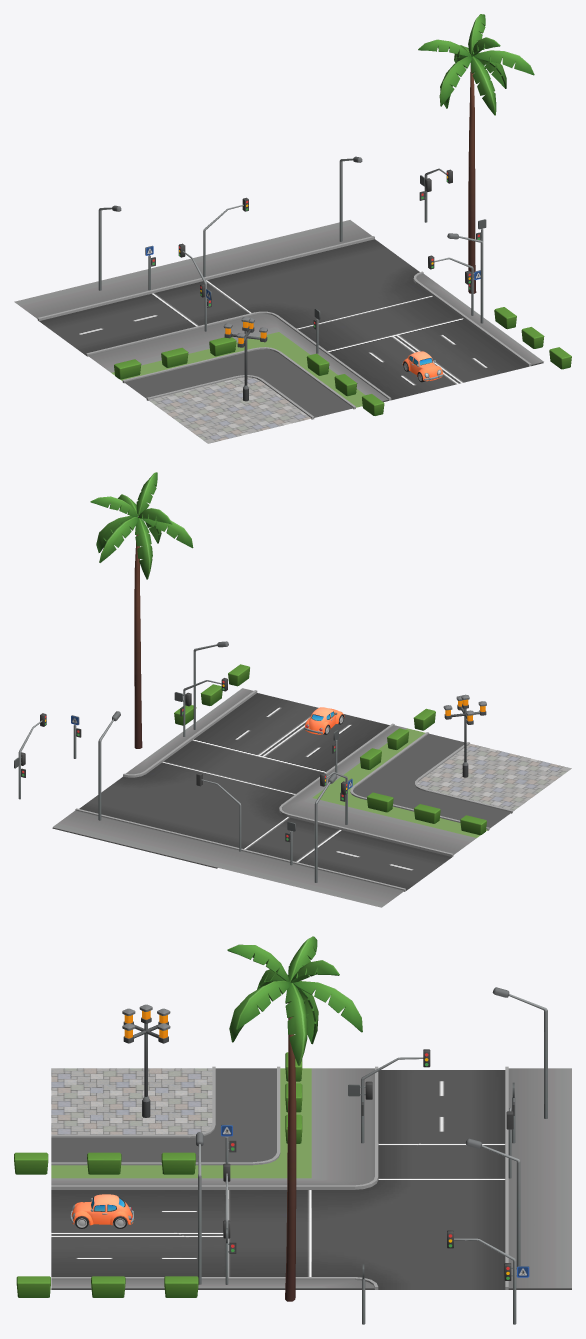
The model's file is south-center.gltf.
The picture shows the model from 3 angles, top to bottom: view 1: azimuth 30°, elevation 25°; view 2: azimuth 150°, elevation 25°; view 3: azimuth 270°, elevation 25°; orthographic projection. The views are drawn at different scales.
Visible parts, largest first — view 1: road_019.012, road_020.003, road_022.106, Set_B_Tiles_01.021, Palm_03.066, Spotlight_02.112, Car_19.003; view 2: road_019.012, road_022.106, road_020.003, Set_B_Tiles_01.021, Palm_03.066, Spotlight_02.112, Car_19.003; view 3: road_019.012, road_022.106, Set_B_Tiles_01.021, road_020.003, Palm_03.066, Spotlight_02.112, Car_19.003, traffic_light_002.520, traffic_light_002.410, Spotlight_01.113, Bush_10.276, Bush_10.277 (+7 smaller).
Boxes of the visible parts, left/top/right/bottom form: road_019.012: left=182, top=220, right=446, bottom=331; road_020.003: left=279, top=291, right=543, bottom=402; road_022.106: left=14, top=261, right=278, bottom=372; Set_B_Tiles_01.021: left=111, top=332, right=365, bottom=443; Palm_03.066: left=418, top=14, right=534, bottom=293; Spotlight_02.112: left=223, top=317, right=267, bottom=401; Car_19.003: left=402, top=351, right=443, bottom=381; road_019.012: left=52, top=758, right=311, bottom=868; road_022.106: left=217, top=798, right=476, bottom=907; road_020.003: left=147, top=688, right=406, bottom=797; Set_B_Tiles_01.021: left=312, top=728, right=571, bottom=837; Palm_03.066: left=90, top=472, right=193, bottom=748; Spotlight_02.112: left=443, top=694, right=486, bottom=777; Car_19.003: left=304, top=707, right=344, bottom=734; road_019.012: left=311, top=1176, right=571, bottom=1289; road_022.106: left=311, top=1066, right=571, bottom=1179; Set_B_Tiles_01.021: left=51, top=1066, right=311, bottom=1178; road_020.003: left=51, top=1178, right=311, bottom=1289; Palm_03.066: left=227, top=936, right=362, bottom=1301; Spotlight_02.112: left=122, top=1004, right=170, bottom=1117; Car_19.003: left=70, top=1194, right=134, bottom=1225; traffic_light_002.520: left=348, top=1049, right=430, bottom=1143; traffic_light_002.410: left=447, top=1230, right=529, bottom=1324; Spotlight_01.113: left=465, top=1138, right=520, bottom=1269; Bush_10.276: left=161, top=1152, right=195, bottom=1174; Bush_10.277: left=14, top=1152, right=48, bottom=1174.
Size of the model in its own units: 35.43 by 22.76 by 32.15.
13 materials, 11 textured.
